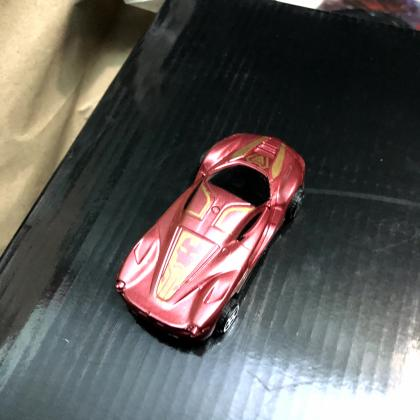Car: (115, 134, 307, 351)
